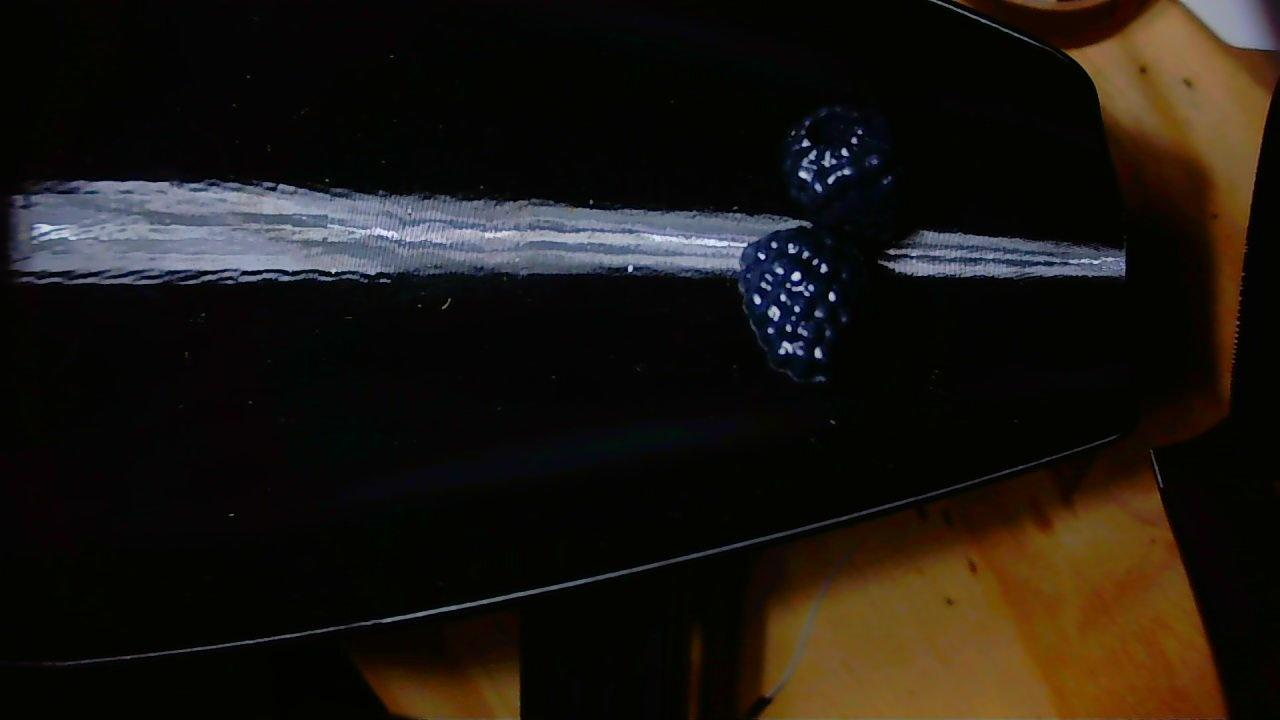berry: (739, 227, 864, 381), (782, 105, 902, 248)
